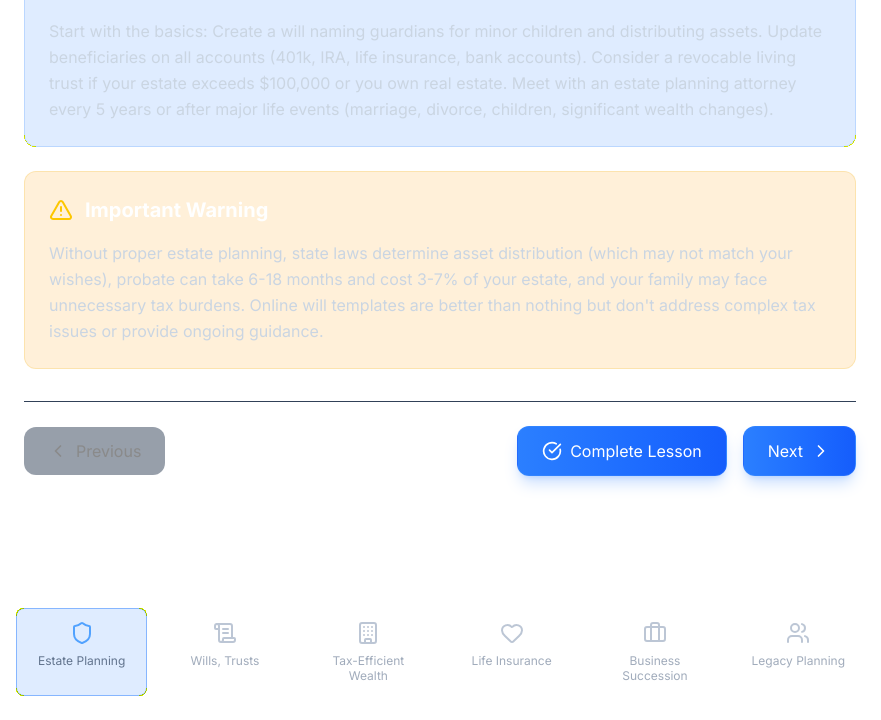
Test case: EstatePlanningLessonEnhanced › handles lesson navigation boundary conditions correctly
The image size is (881, 720).
(page scrolled)
Expected: the button "Previous" is disabled, left=24, top=427, right=165, bottom=475
Click the button "Next" at (799, 451), box left=743, top=426, right=856, bottom=476
(page scrolled)
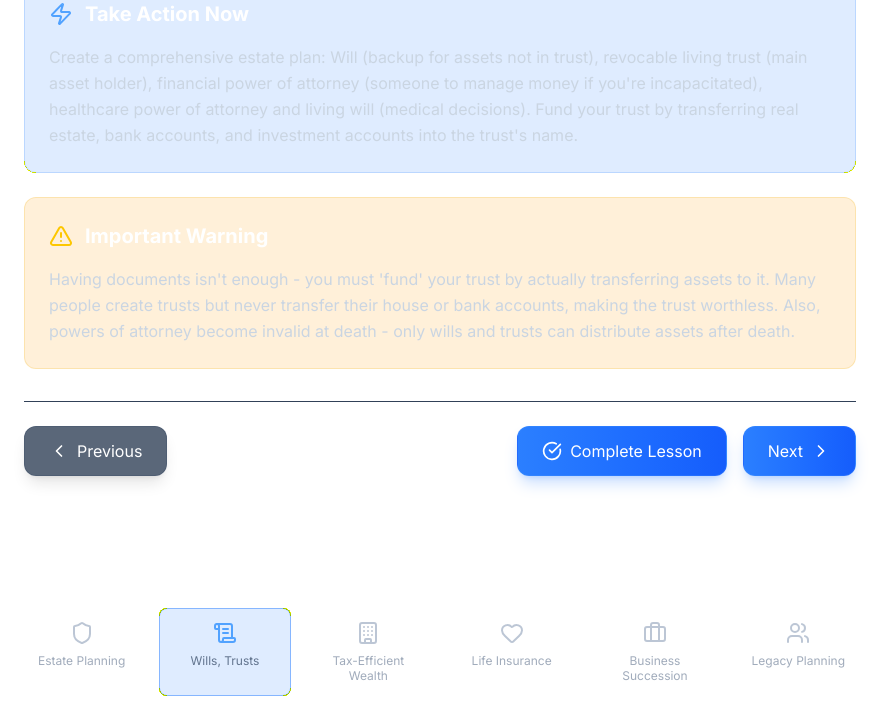
Click the button "Next" at (799, 451), box left=743, top=426, right=856, bottom=476
(page scrolled)
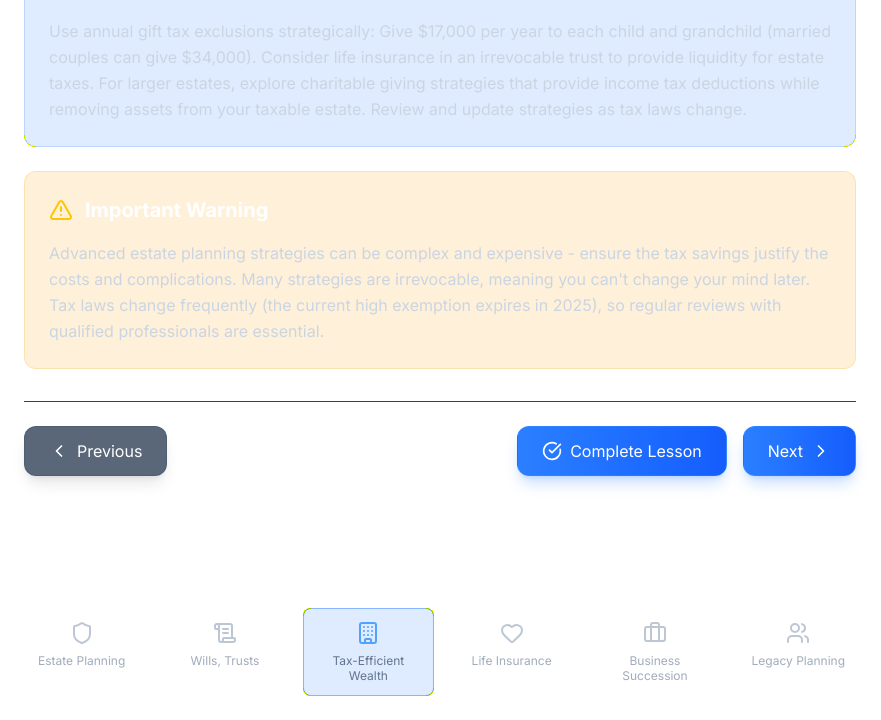
Click the button "Next" at (799, 451), box left=743, top=426, right=856, bottom=476
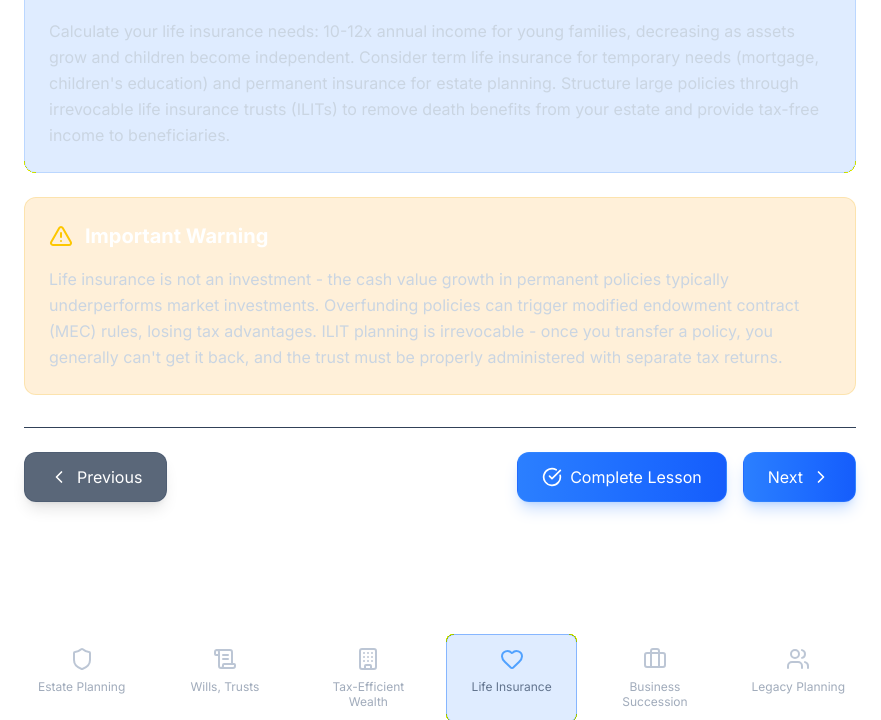
Click the button "Next" at (799, 477), box left=743, top=452, right=856, bottom=502
(page scrolled)
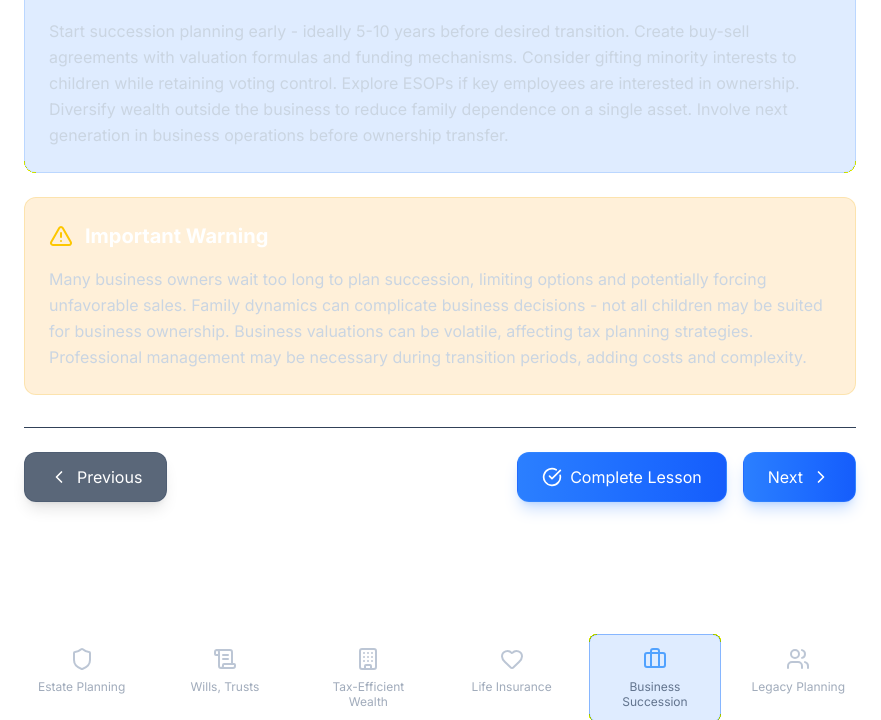
Click the button "Next" at (799, 477), box left=743, top=452, right=856, bottom=502
(page scrolled)
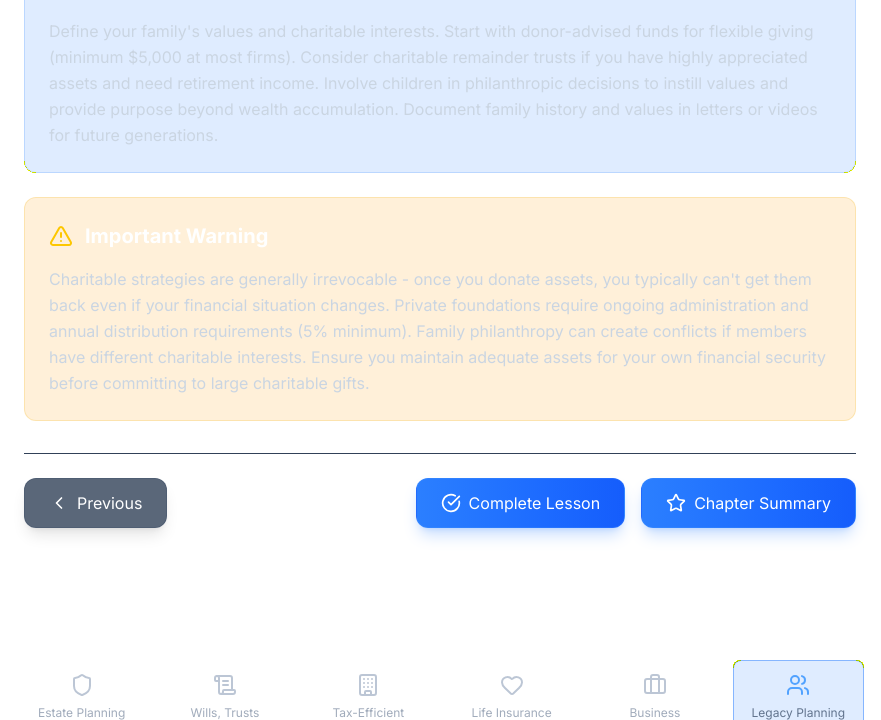
Expected: the button "Previous" is enabled, left=24, top=478, right=167, bottom=528
Expected: the button "Chapter Summary" is shown, left=641, top=478, right=856, bottom=528
